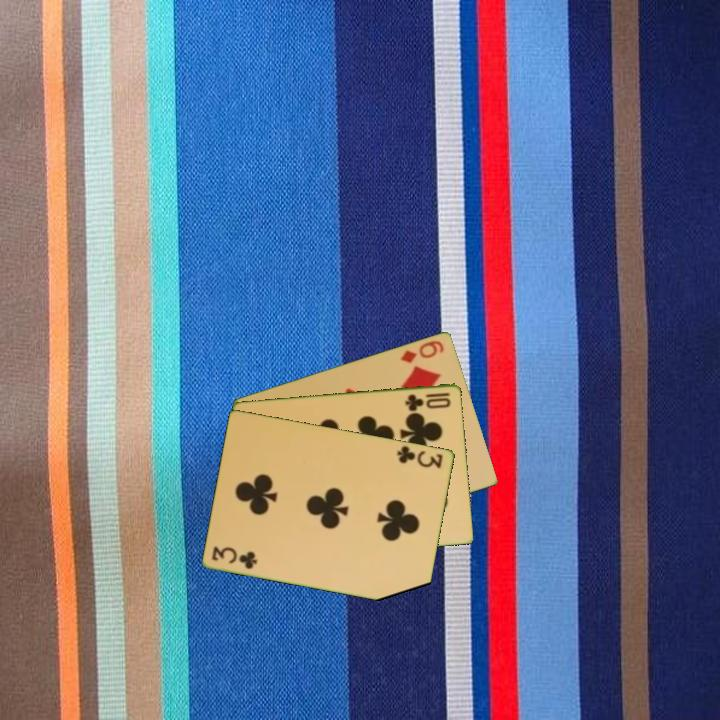10c: (402, 389, 454, 413)
3c: (394, 442, 446, 471), (208, 543, 260, 572)
6d: (397, 336, 447, 366)
